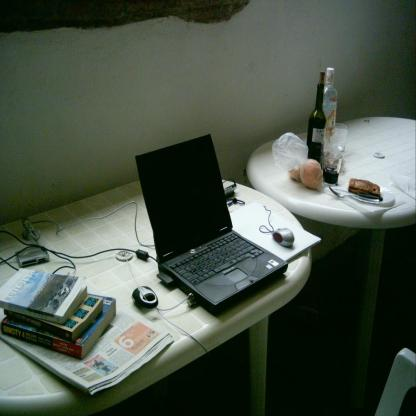board: (134, 132, 288, 316), (307, 73, 326, 162), (323, 68, 337, 143), (331, 122, 347, 151)
